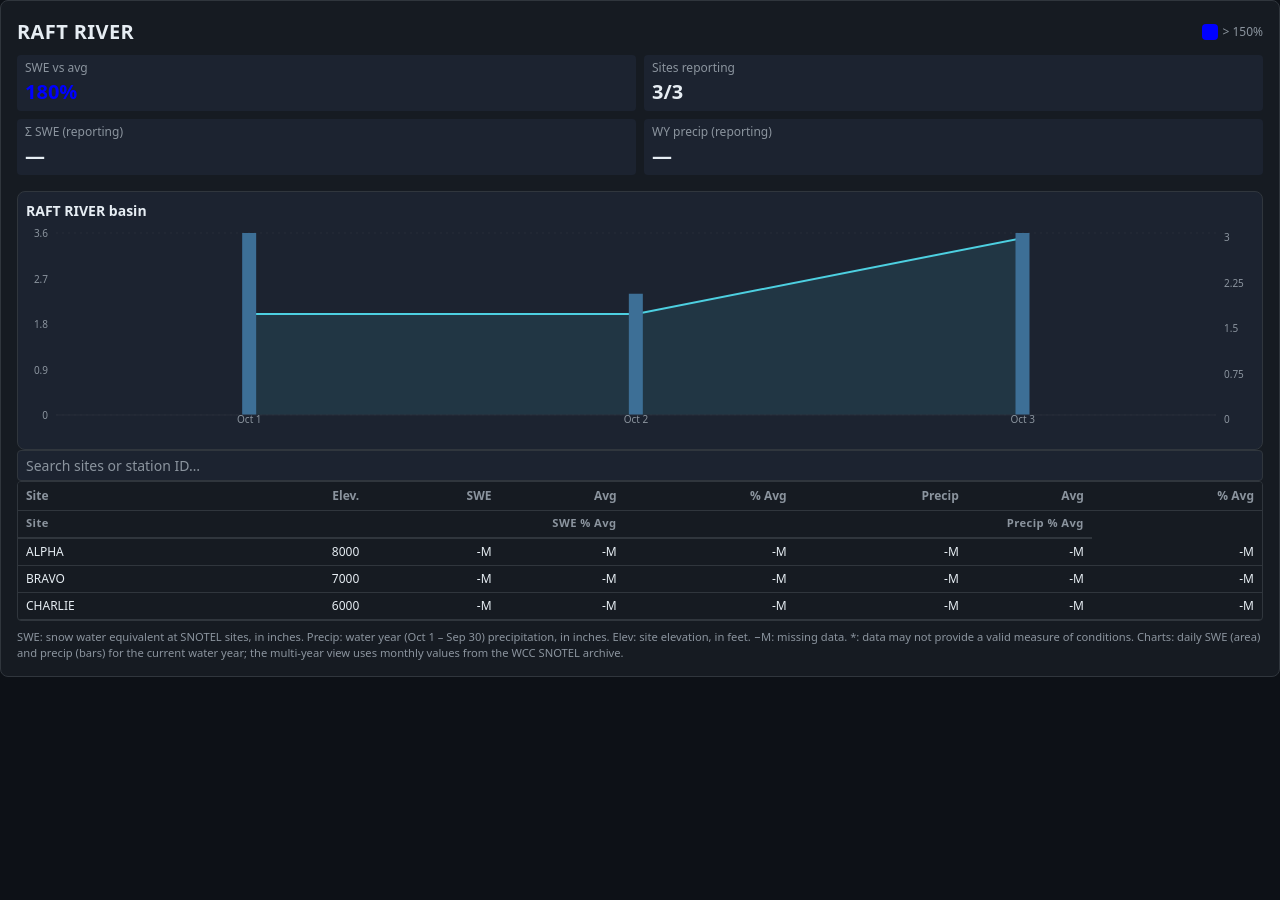
DetailPanel: time series charts (task 9) › shows the empty state for a site with no series data
Step 1. Click the button with aria-label "CHARLIE — show time series" → (122, 606), box [26,597,219,615]
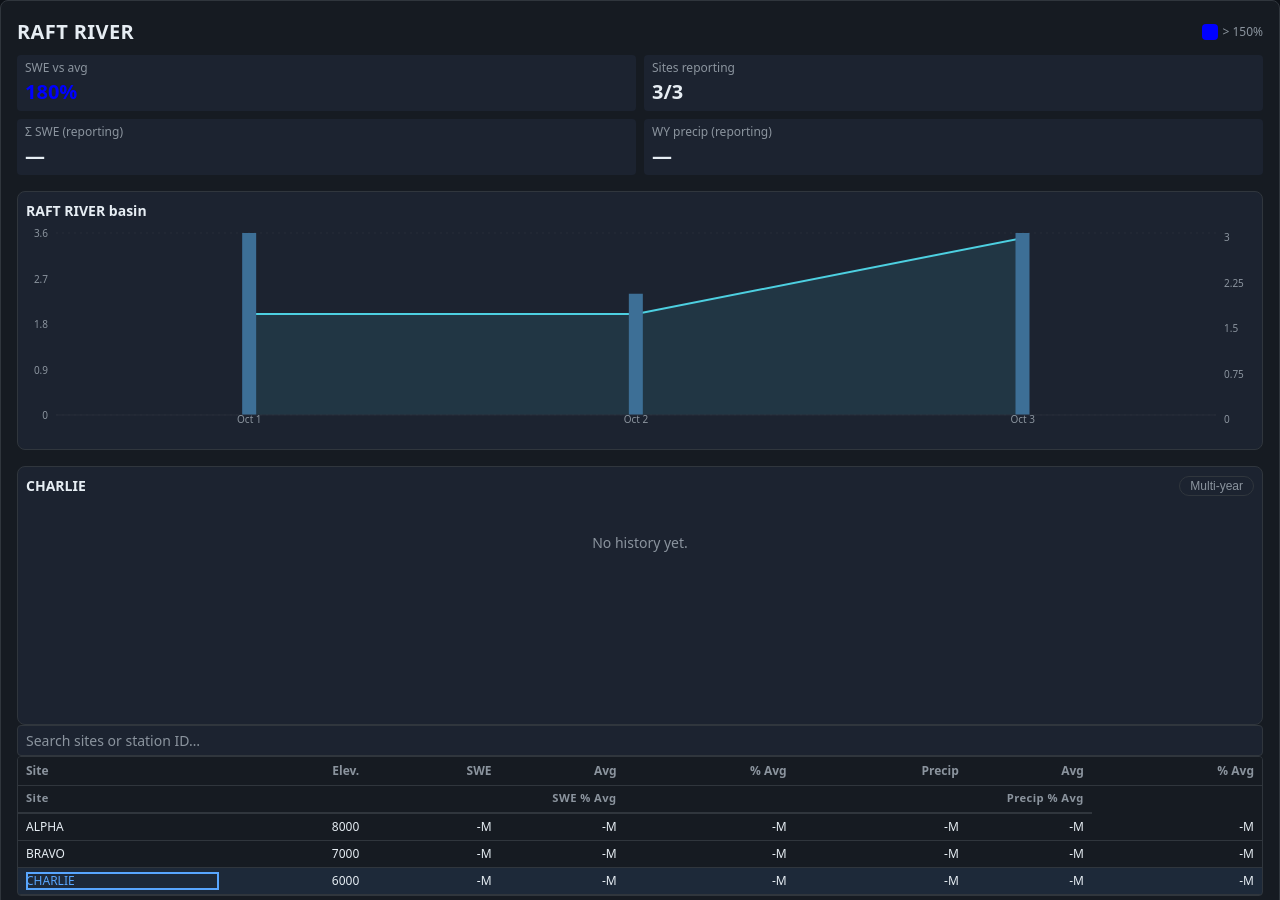
Expected: the text "No history yet." is shown, [592,533,688,552]
